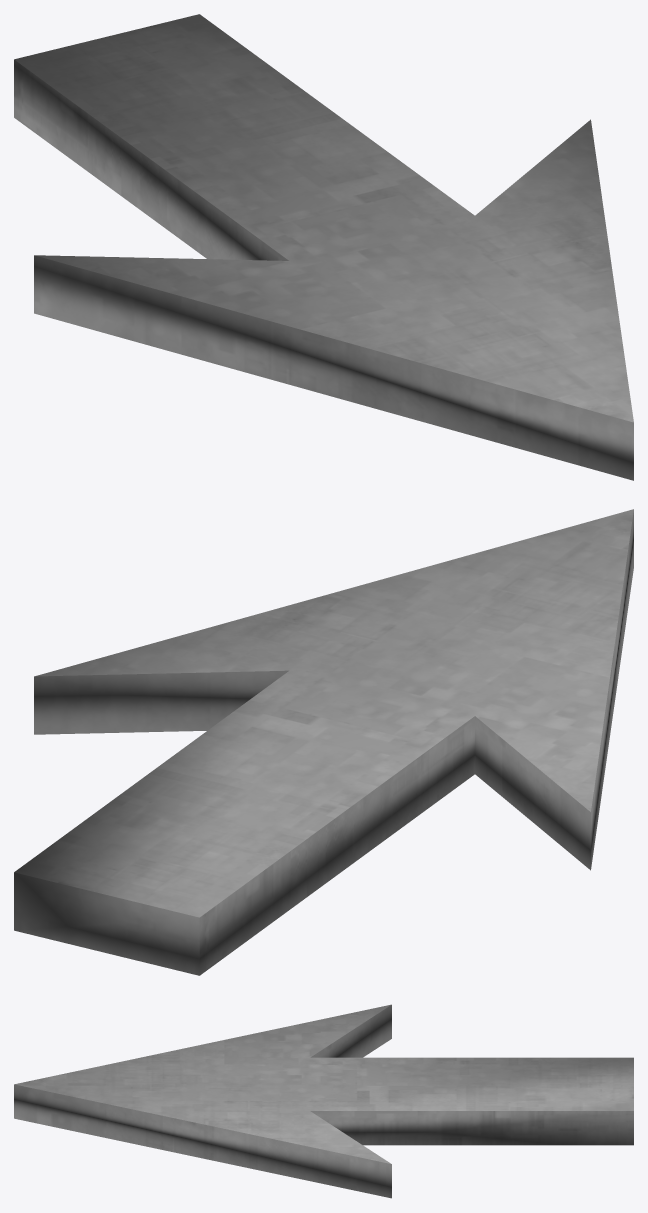
File: jaguar_company_tracker.obj
3 views of the same model, one above another, from view 1: azimuth 30°, elevation 25°; view 2: azimuth 150°, elevation 25°; view 3: azimuth 270°, elevation 25° (orthographic). The views are drawn at different scales.
Parts seen in each view (by area): view 1: jaguar_company_tracker; view 2: jaguar_company_tracker; view 3: jaguar_company_tracker.
Part boxes in pixels (box(x1,y1,x2,y2)): jaguar_company_tracker: box(14, 14, 633, 480); jaguar_company_tracker: box(14, 509, 633, 975); jaguar_company_tracker: box(14, 1004, 633, 1198).
Bounding box in the file's own units: 10 × 1 × 16.4.
